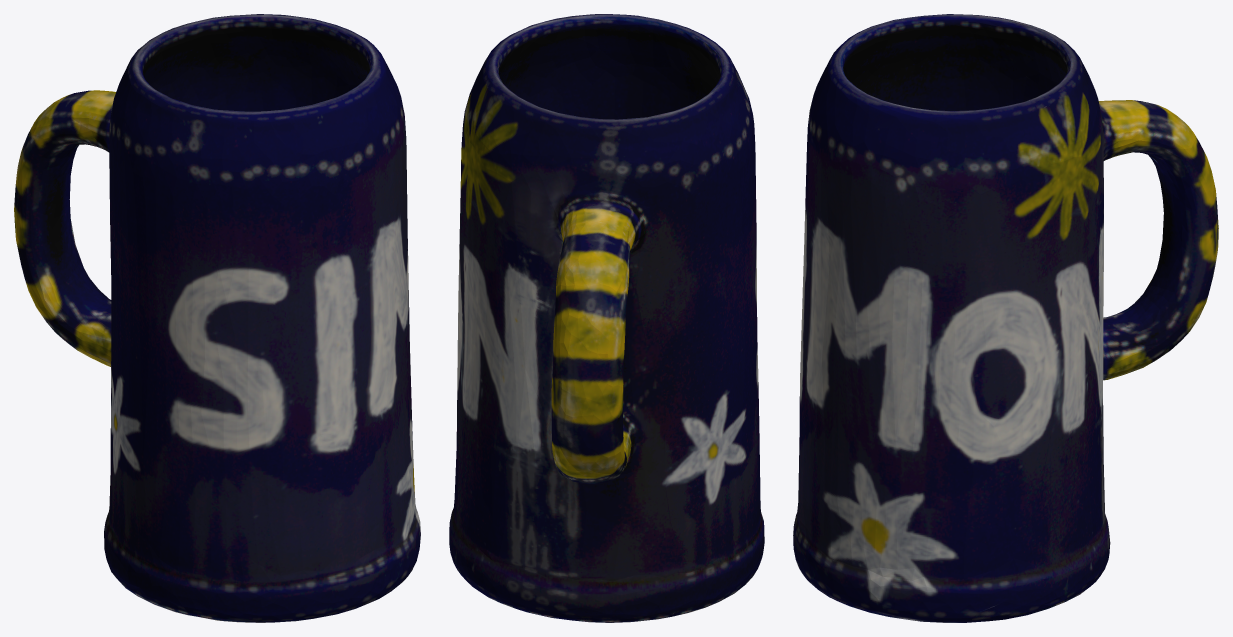
The model's file is 5D0C7D9A-A56E-724A-B47F-CDD7E73E2263_2k.glb.
The picture shows the model from 3 angles, left to right: view 1: azimuth 30°, elevation 25°; view 2: azimuth 150°, elevation 25°; view 3: azimuth 270°, elevation 25°; orthographic projection.
Visible parts, largest first — view 1: Krug Blau_6k_2k; view 2: Krug Blau_6k_2k; view 3: Krug Blau_6k_2k.
Boxes of the visible parts, x1,y1,x2,y2 form: Krug Blau_6k_2k: (14,14,420,622); Krug Blau_6k_2k: (449,14,764,622); Krug Blau_6k_2k: (793,14,1218,622).
Bounding box in the file's own units: 0.114 × 0.1986 × 0.1529.
1 material, 1 textured.
